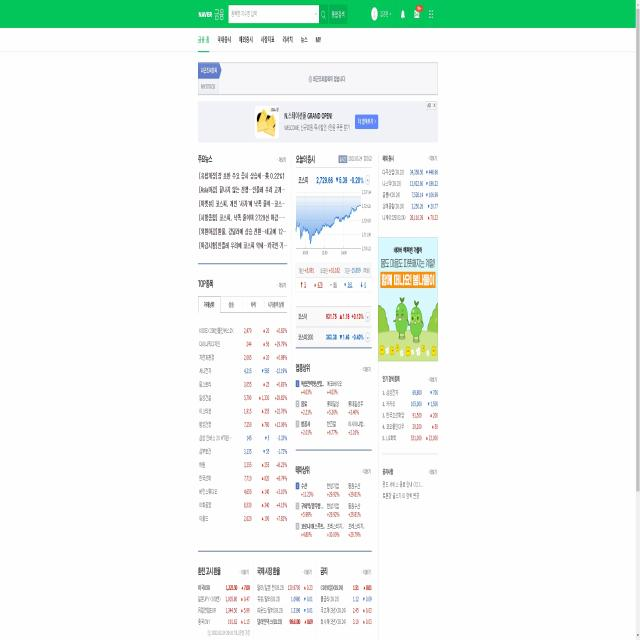menu-bar: (370, 2, 439, 25)
search: (228, 5, 328, 25)
side-panel: (378, 145, 441, 506)
tab-bar: (196, 32, 324, 49)
